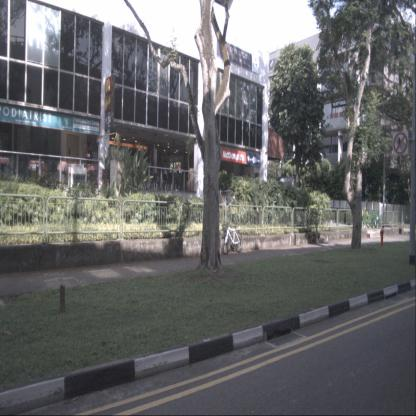vehicle-bicycle: (220, 220, 243, 255)
